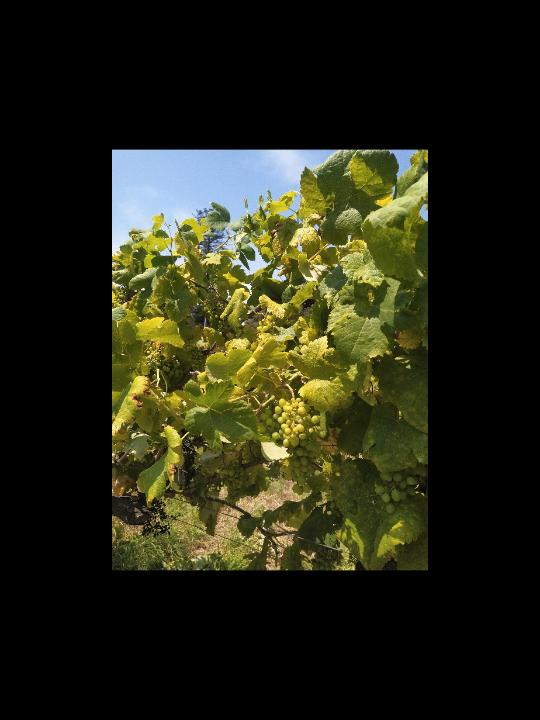grape: (258, 397, 327, 494)
